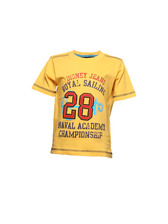clothoes: (30, 46, 141, 165)
